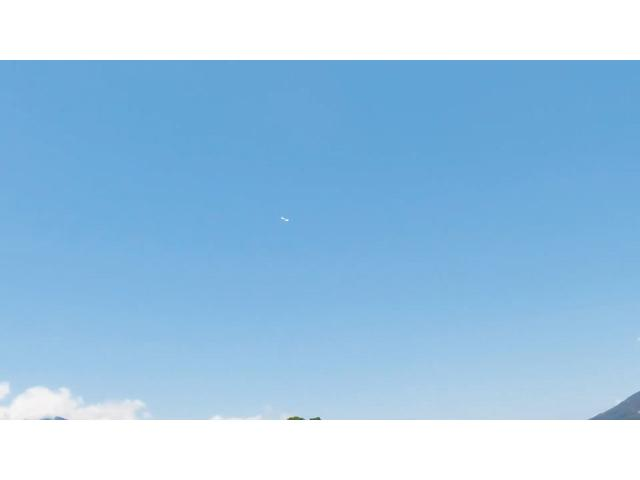Anti-Drone: (273, 207, 301, 232)
